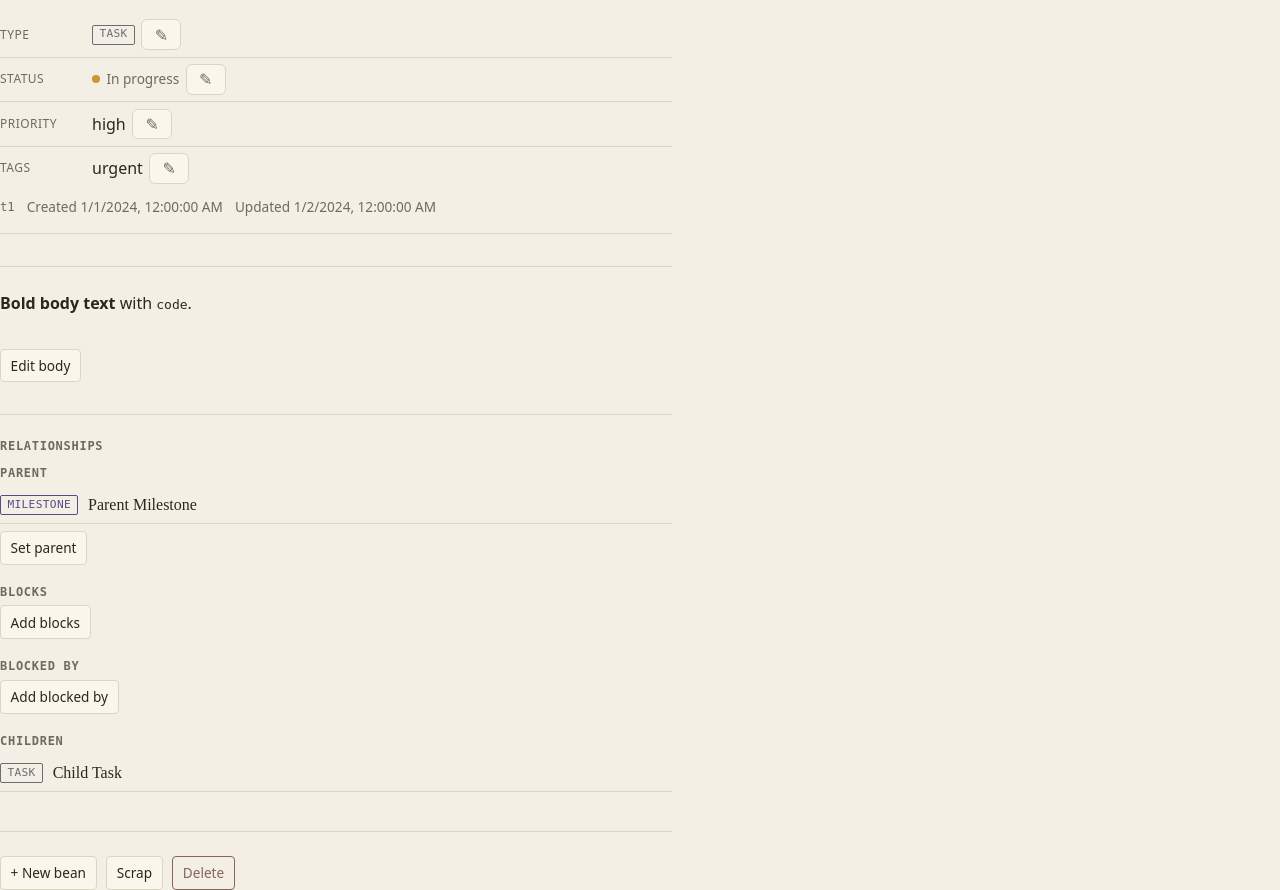
Test: BeanDetailPage › does not scrap when the dialog is cancelled
(page scrolled)
Click the button "Scrap".
click(134, 873)  # box [106, 856, 163, 889]
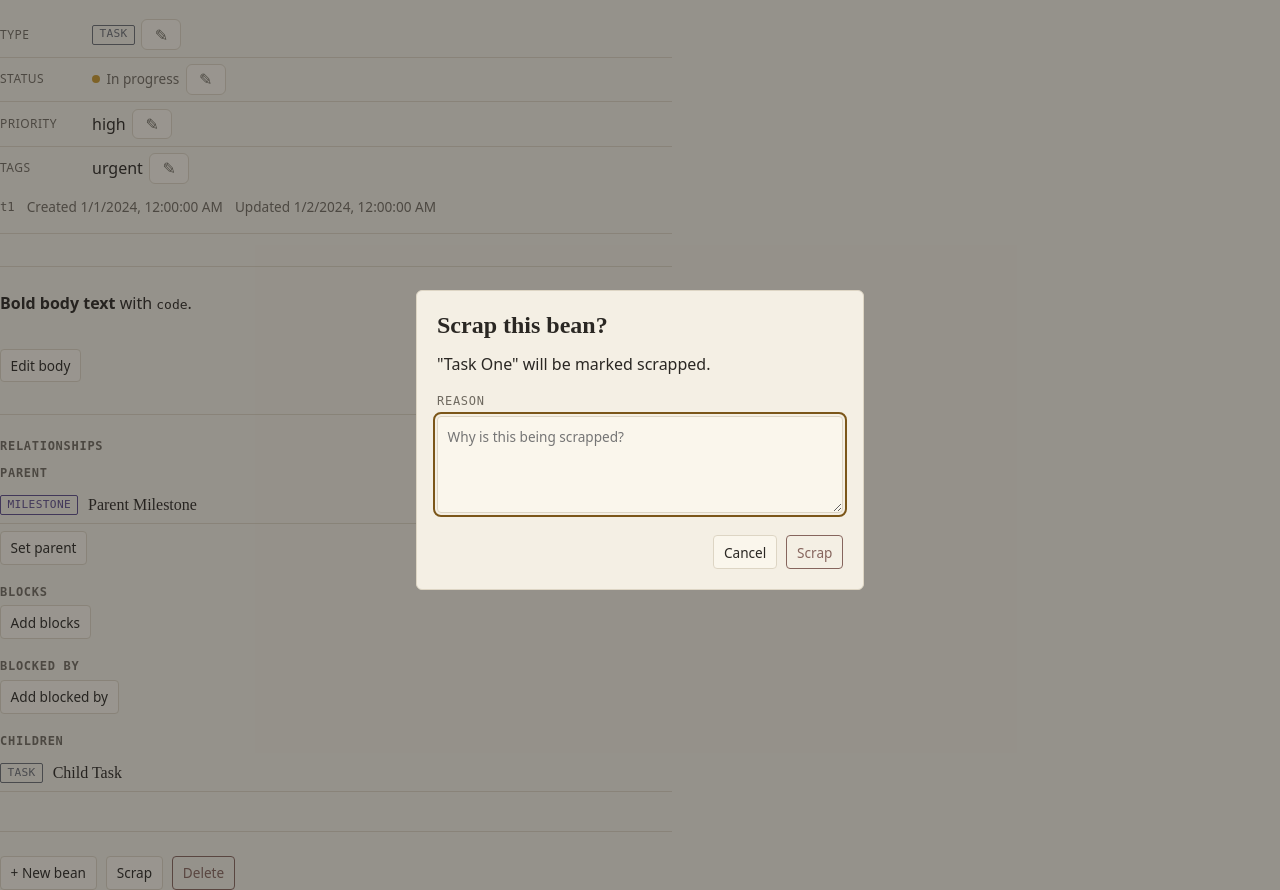
Click the button "Cancel".
click(745, 552)  # box [713, 535, 777, 569]
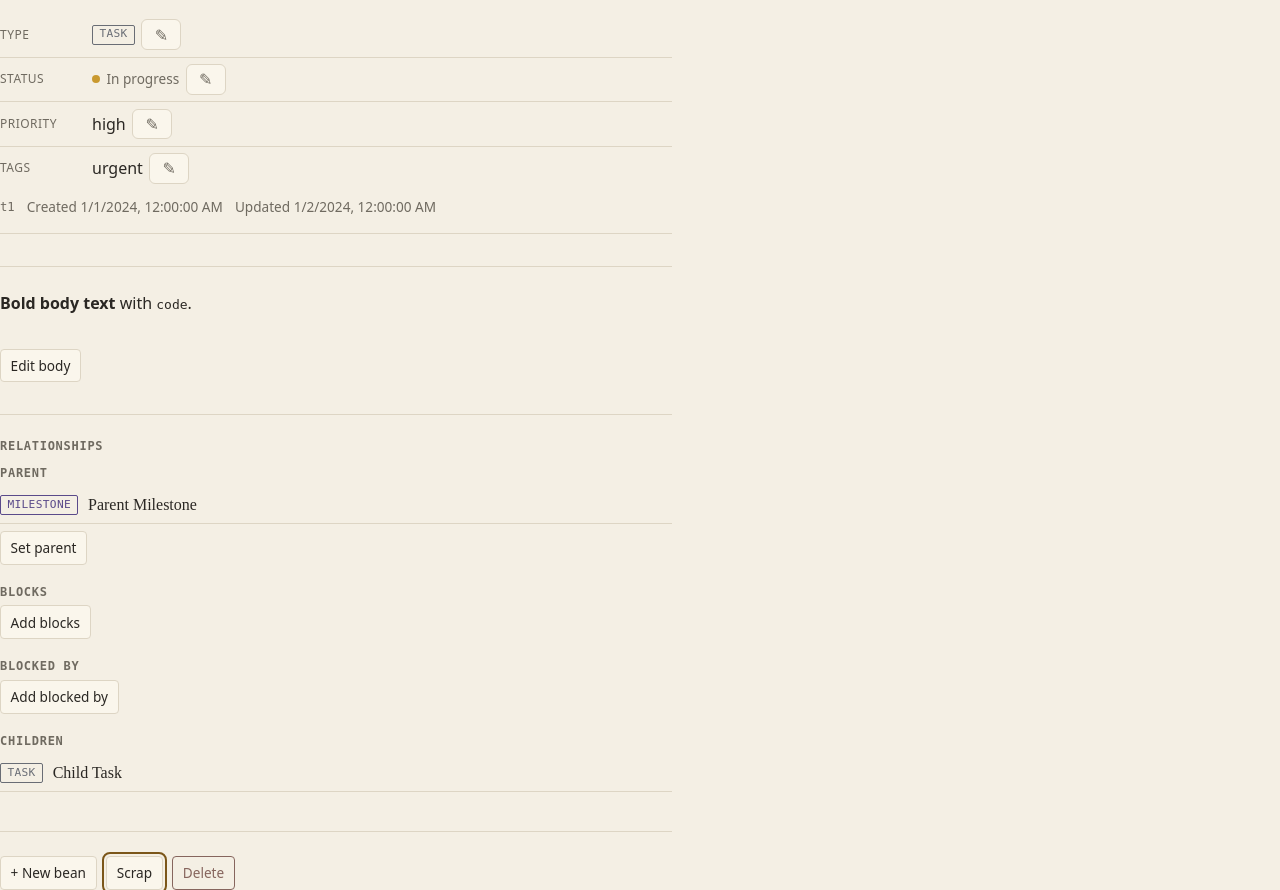
Check: the dialog is gone
